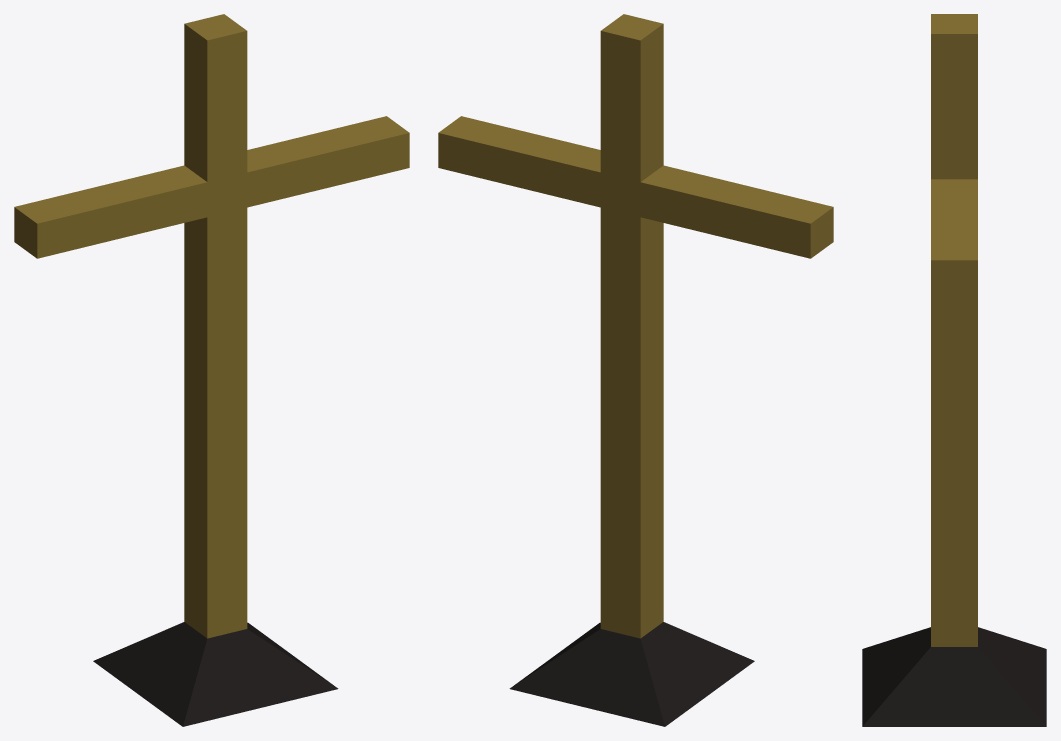
Rendered from armor_rack.fbx.
3 renders of one model, left to right at view 1: azimuth 30°, elevation 25°; view 2: azimuth 150°, elevation 25°; view 3: azimuth 270°, elevation 25°, orthographic. The views are drawn at different scales.
Parts seen in each view (by area): view 1: ArmorRack; view 2: ArmorRack; view 3: ArmorRack.
Boxes of the visible parts, x1,y1,x2,y2 form: ArmorRack: [14, 14, 409, 726]; ArmorRack: [438, 14, 833, 726]; ArmorRack: [862, 14, 1046, 726].
Bounding box in the file's own units: 346 × 575 × 145.
